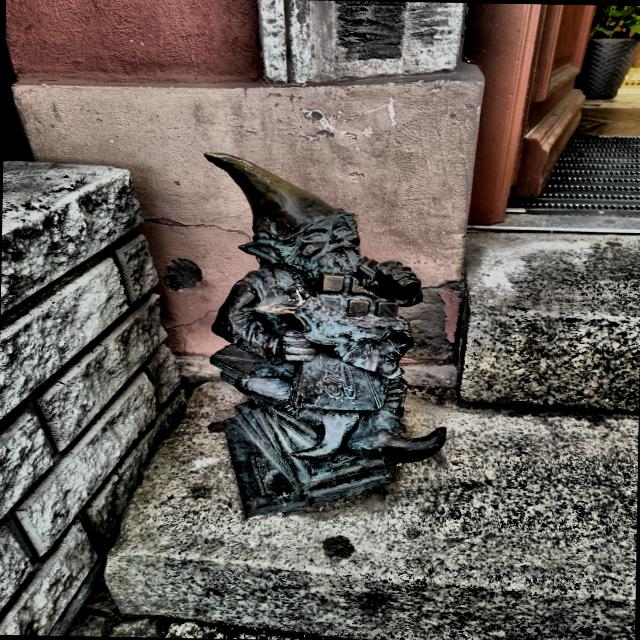Wedelek: (205, 153, 445, 516)
